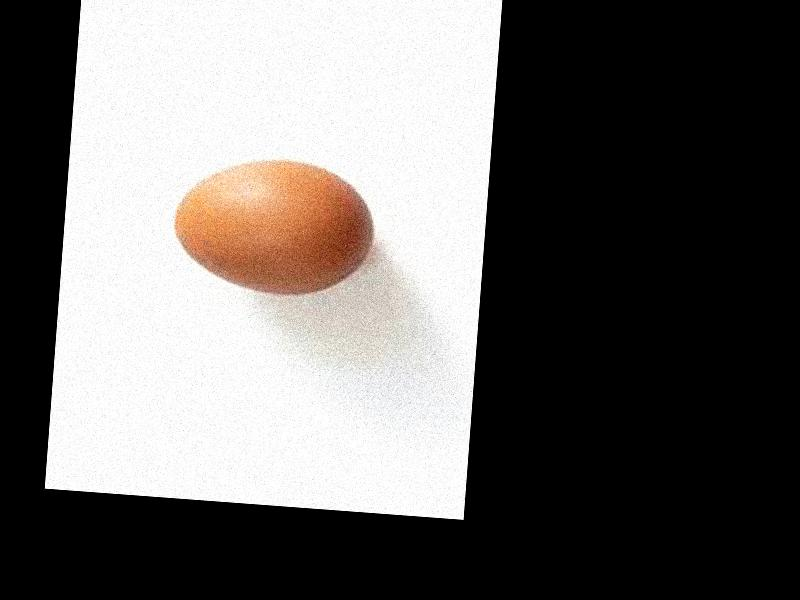Eggs: (168, 155, 377, 299)
